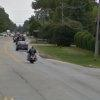Motorcycle: (24, 45, 40, 64)
